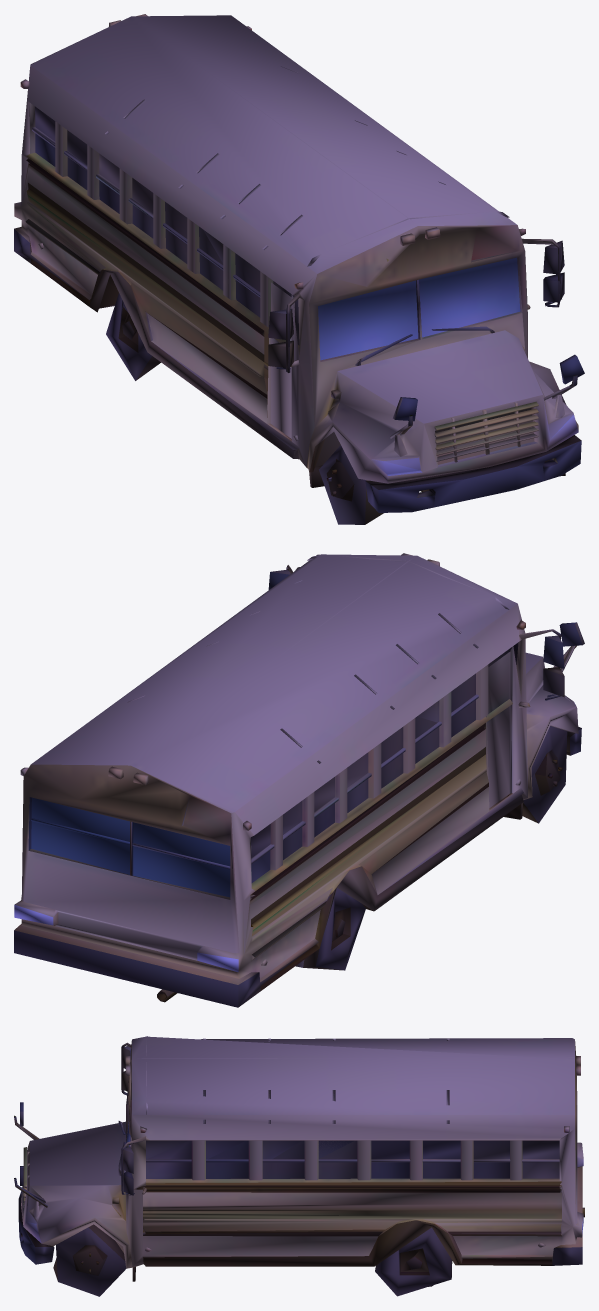
Rendered from model.progressive.glb.
3 renders of one model, top to bottom at view 1: azimuth 30°, elevation 25°; view 2: azimuth 150°, elevation 25°; view 3: azimuth 270°, elevation 25°, orthographic. The views are drawn at different scales.
Parts seen in each view (by area): view 1: material; view 2: material; view 3: material.
Boxes of the visible parts, x1=… form: material: x1=14, y1=14, x2=584, y2=524; material: x1=14, y1=553, x2=584, y2=1007; material: x1=14, y1=1036, x2=584, y2=1296.
Bounding box in the file's own units: 0.8807 × 0.74 × 1.9.
1 material, 1 textured.
